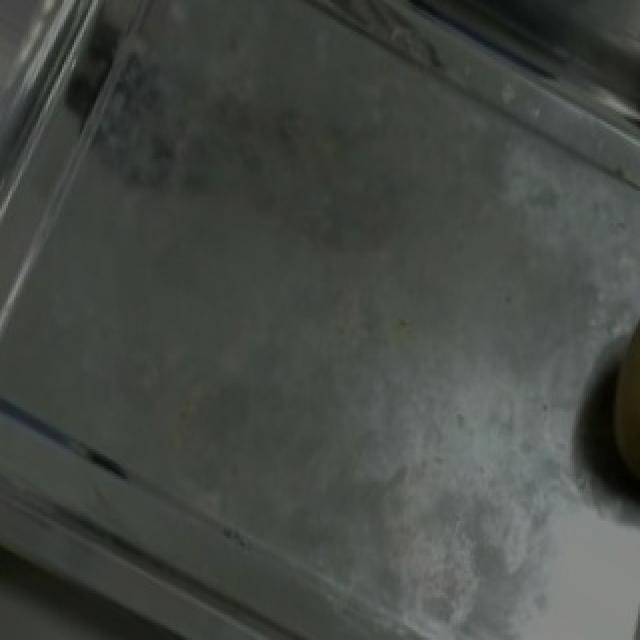Fruit: (552, 283, 640, 538)
